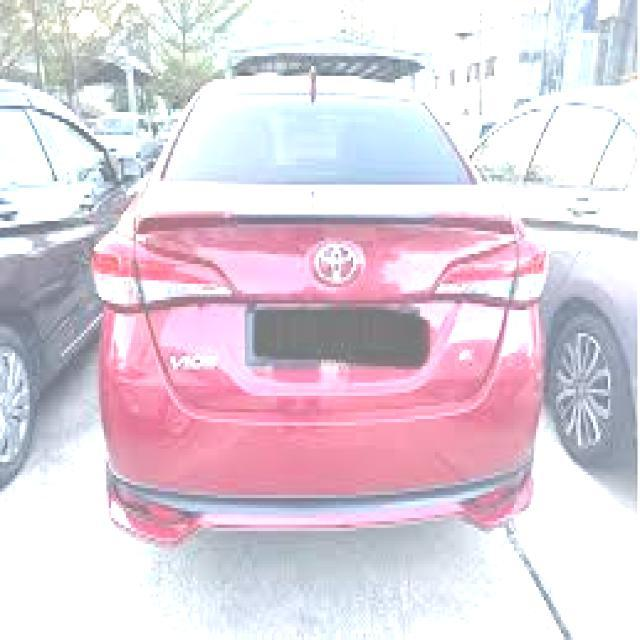ToyotaVios: (89, 66, 549, 548)
